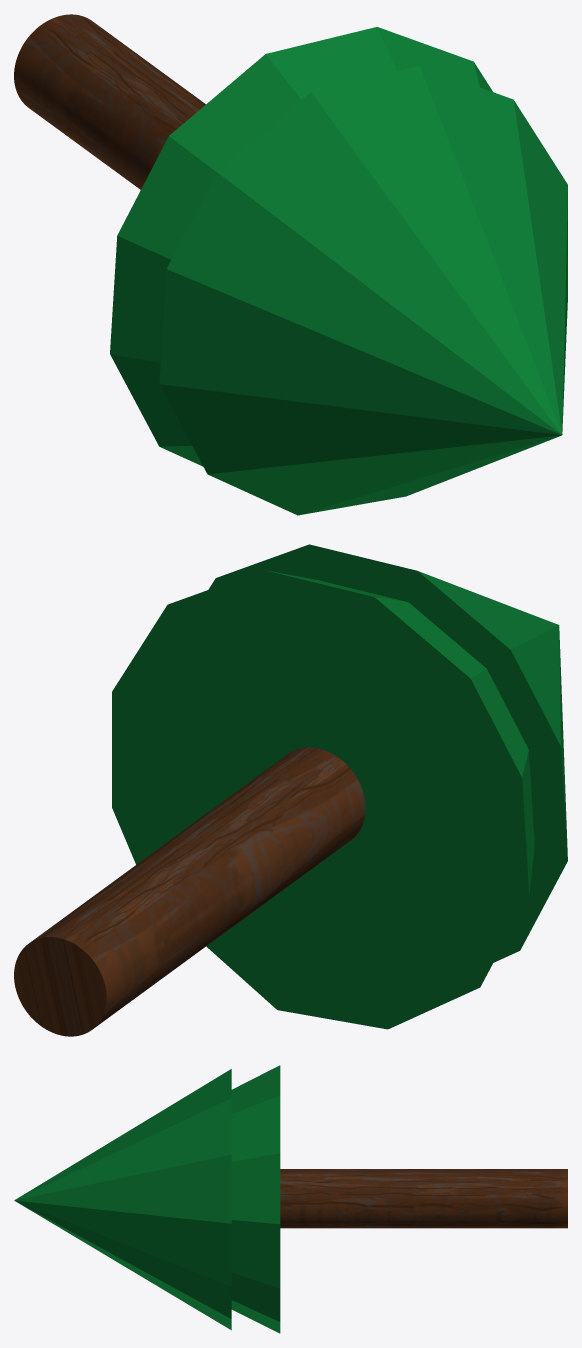
The model's file is Tree.obj.
3 renders of one model, top to bottom at view 1: azimuth 30°, elevation 25°; view 2: azimuth 150°, elevation 25°; view 3: azimuth 270°, elevation 25°, orthographic. The views are drawn at different scales.
Visible parts, largest first — view 1: Object.3, Object.2, Object.1; view 2: Object.2, Object.1, Object.3; view 3: Object.3, Object.1, Object.2.
Part boxes in pixels (bbox=[...]): Object.3: bbox=[159, 65, 567, 515]; Object.2: bbox=[110, 27, 562, 466]; Object.1: bbox=[14, 14, 205, 189]; Object.2: bbox=[112, 570, 534, 1029]; Object.1: bbox=[14, 747, 365, 1036]; Object.3: bbox=[208, 544, 567, 962]; Object.3: bbox=[15, 1069, 231, 1330]; Object.1: bbox=[280, 1169, 567, 1228]; Object.2: bbox=[14, 1065, 280, 1333].
Size of the model in its own units: 0.9 by 0.9 by 1.86.
Materials: 2 (1 with a texture image).
